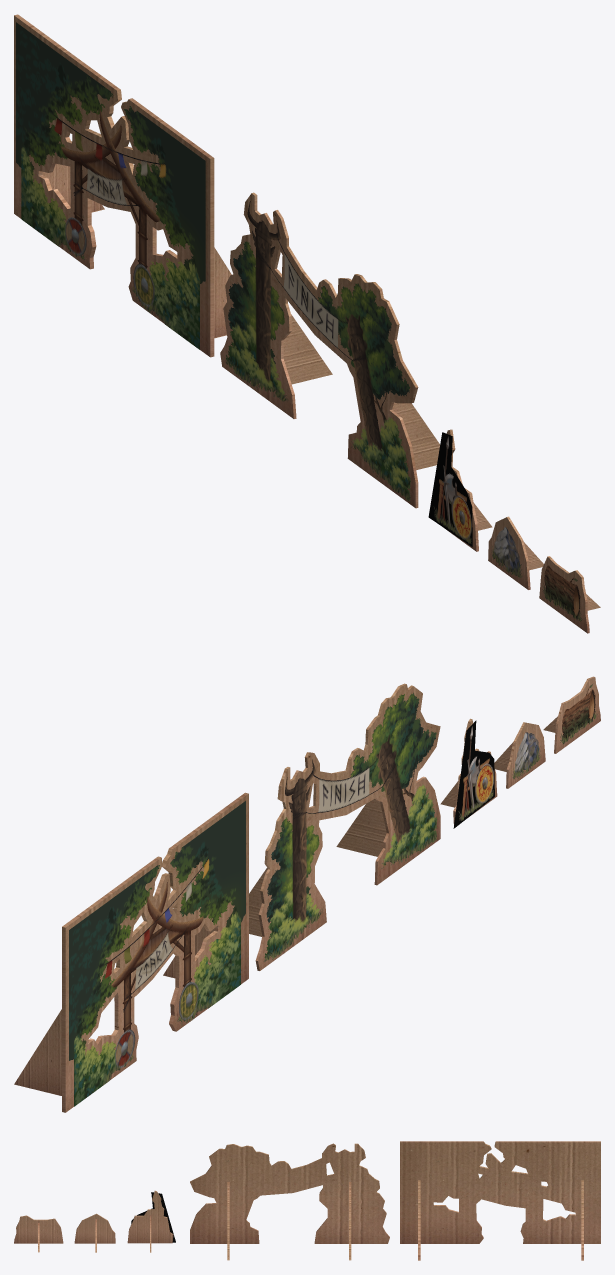
File: StartFinishObstacles.fbx
3 renders of one model, top to bottom at view 1: azimuth 30°, elevation 25°; view 2: azimuth 150°, elevation 25°; view 3: azimuth 270°, elevation 25°, orthographic. The views are drawn at different scales.
Visible parts, largest first — view 1: Start, Finish, Armor, Log, Stone; view 2: Start, Finish, Armor, Log, Stone; view 3: Start, Finish, Armor, Log, Stone.
Part boxes in pixels (box(x1,y1,x2,y2)): Start: box(14, 14, 231, 357); Finish: box(220, 192, 439, 508); Armor: box(428, 429, 492, 551); Log: box(539, 556, 600, 633); Stone: box(488, 516, 543, 589); Start: box(14, 792, 248, 1112); Finish: box(249, 683, 440, 970); Armor: box(440, 718, 497, 828); Log: box(543, 676, 600, 753); Stone: box(494, 722, 545, 788); Start: box(400, 1141, 600, 1260); Finish: box(190, 1143, 389, 1260); Armor: box(127, 1190, 175, 1252); Log: box(14, 1215, 63, 1252); Stone: box(74, 1213, 115, 1252).
Bounding box in the file's own units: 271 × 699 × 3650.
